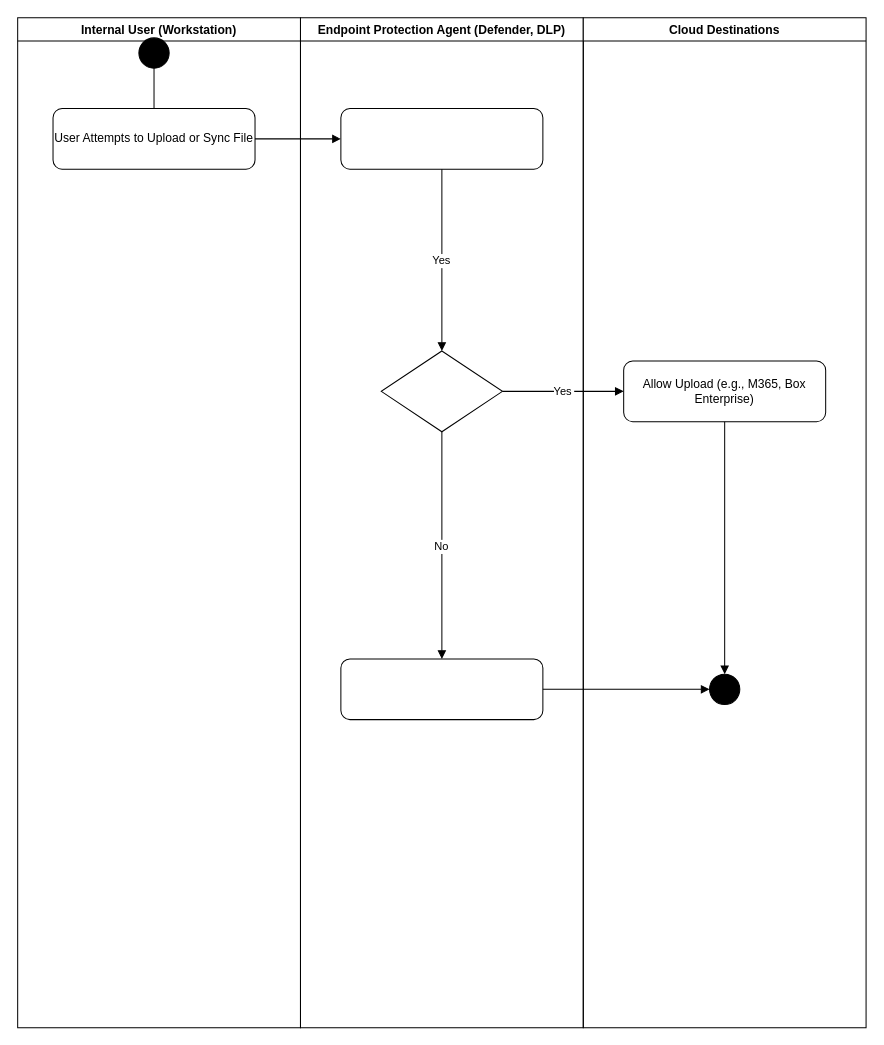
This 884x1045 diagram has some shape labels left out. Each missing label, with the centre of its shape:
"Block Upload + Notify User" goes at (x=441, y=689).
"Cloud Storage Approved?" goes at (x=441, y=391).
"Monitor Network & App Activity on Workstation" goes at (x=441, y=138).
